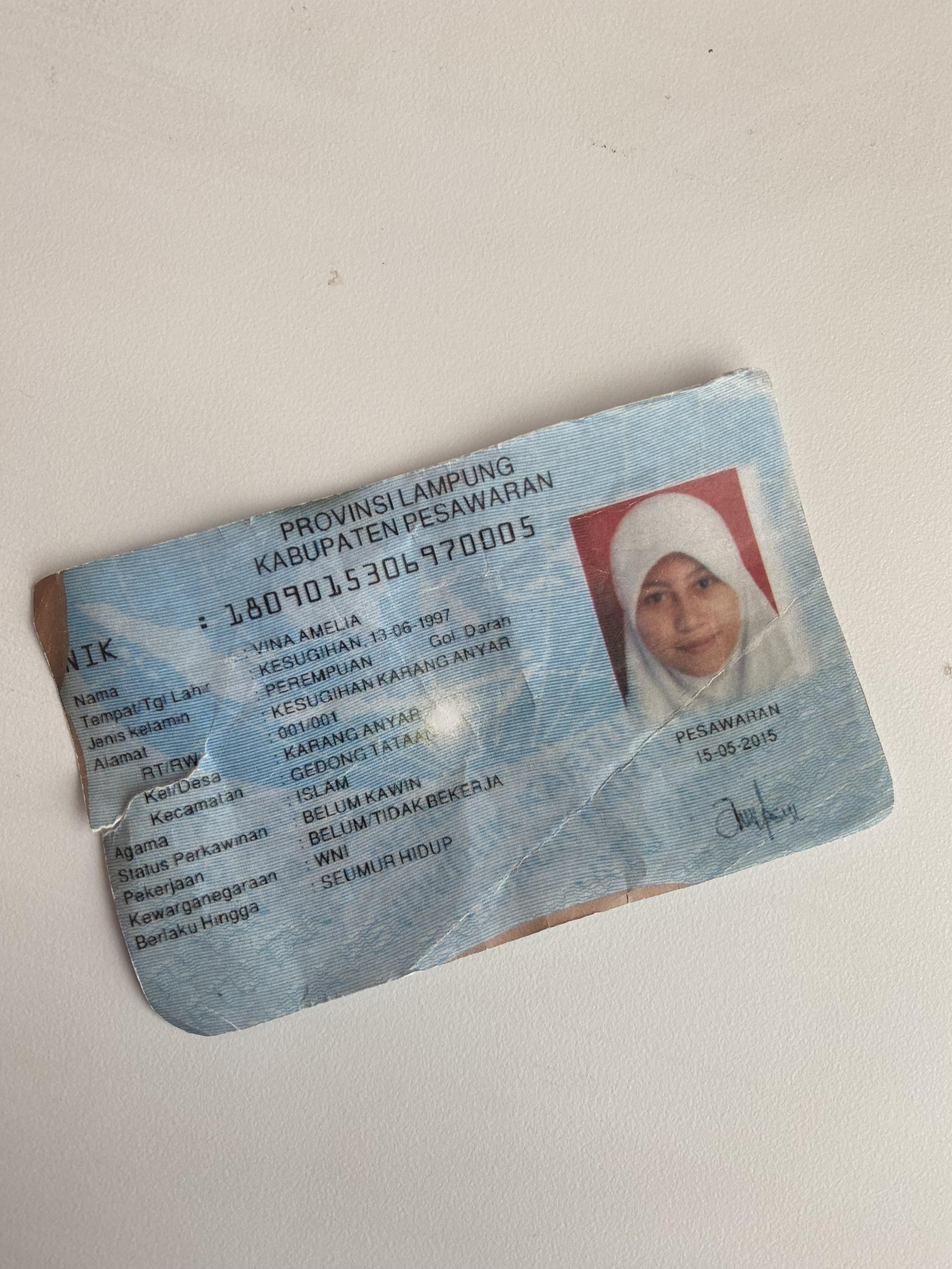ktp: (17, 345, 911, 1040)
